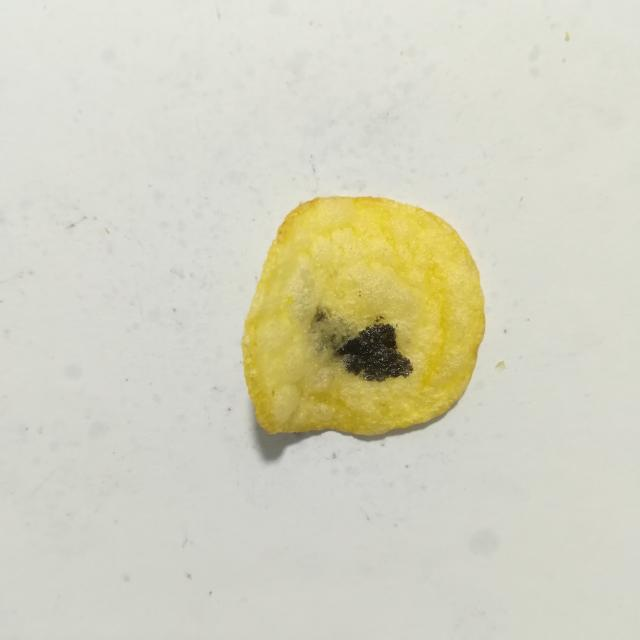chip: (242, 197, 485, 435)
damaged: (336, 321, 413, 382)
semi-damaged: (311, 307, 358, 355)
